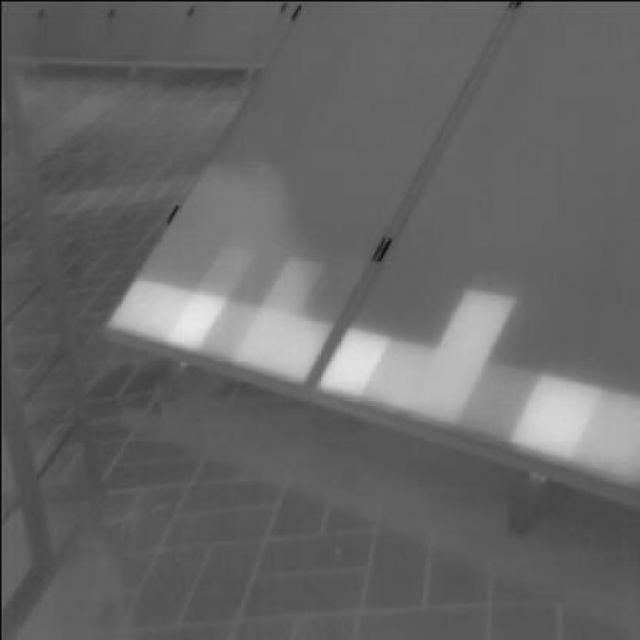hotspot: (513, 372, 602, 462), (436, 286, 519, 352), (236, 306, 319, 371), (316, 329, 389, 391), (107, 276, 179, 330), (260, 257, 322, 309), (197, 242, 252, 295), (174, 293, 221, 349)
